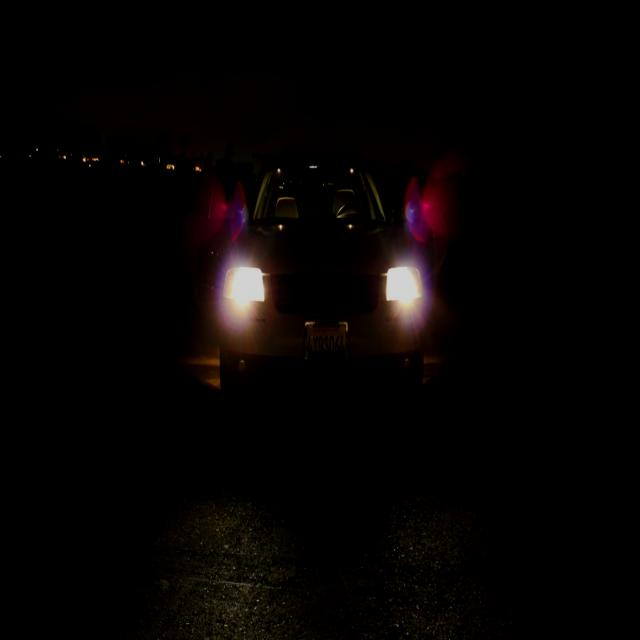Car: (175, 138, 457, 450)
